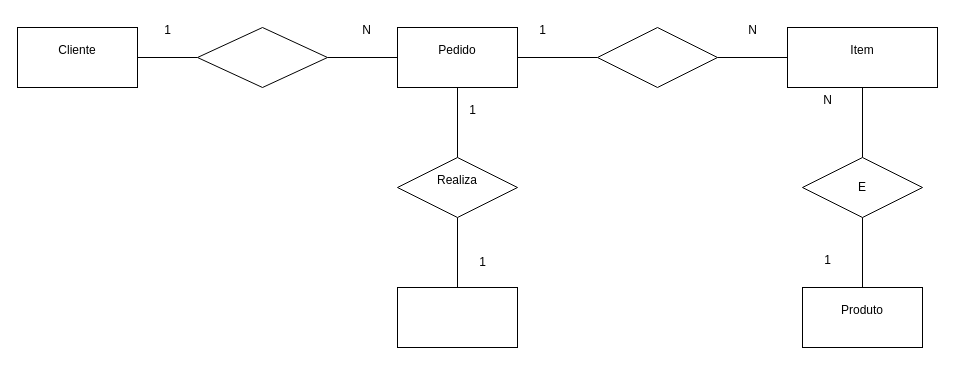
Some shapes in this 955 by 365 pixel diagram are drawn without their labels. Here are the shapes that lost their labels. From the top down, the centre of each, then its label:
At point (262, 57): "Faz".
At point (657, 57): "Contem".
At point (457, 317): "Pagamento".
